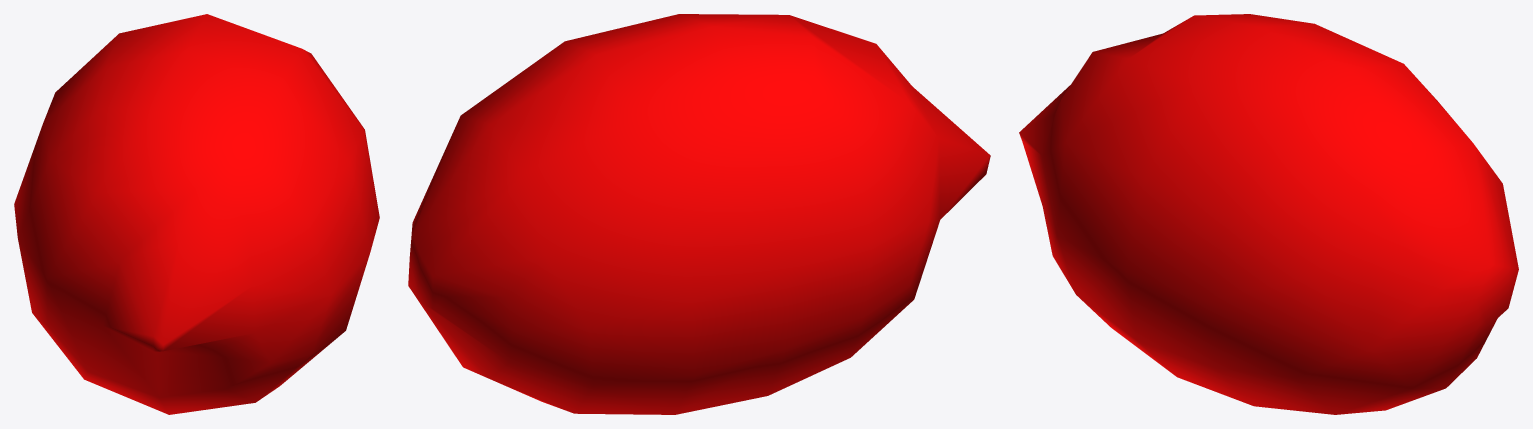
File: lemon1_coll.FBX
3 renders of one model, left to right at view 1: azimuth 30°, elevation 25°; view 2: azimuth 150°, elevation 25°; view 3: azimuth 270°, elevation 25°, orthographic. The views are drawn at different scales.
Parts seen in each view (by area): view 1: lemon1_coll; view 2: lemon1_coll; view 3: lemon1_coll.
Boxes of the visible parts, x1,y1,x2,y2 form: lemon1_coll: (14,14,379,414); lemon1_coll: (408,14,990,414); lemon1_coll: (1019,14,1518,414).
Size of the model in its own units: 61.17 by 52.7 by 68.2.
